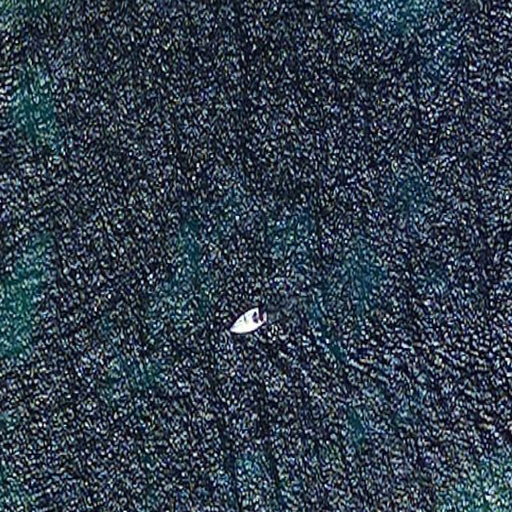ship: (226, 304, 270, 337)
